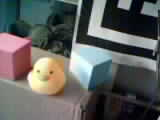duck: (20, 51, 77, 104)
